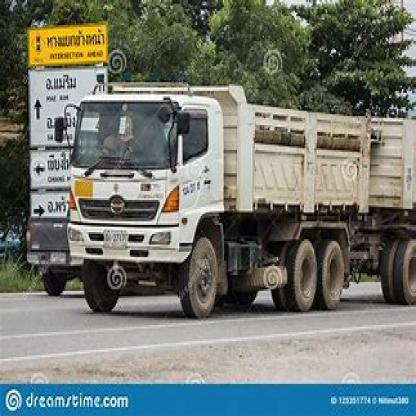dump_truck: (61, 70, 383, 332)
